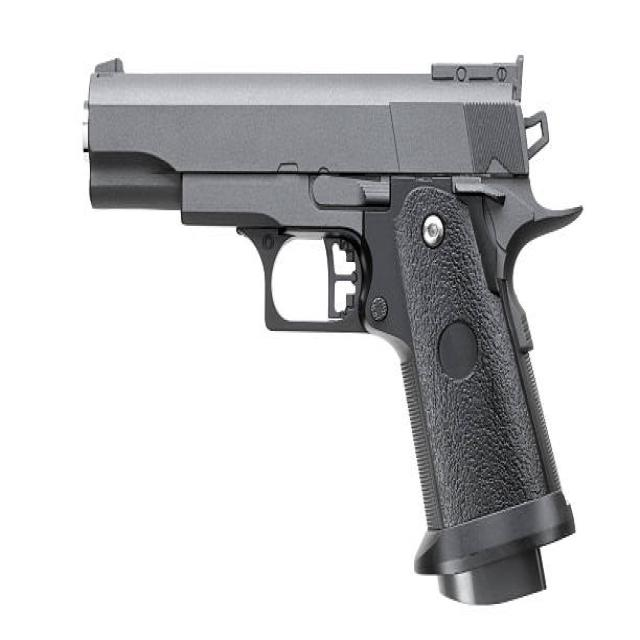pistol: (74, 55, 591, 616)
